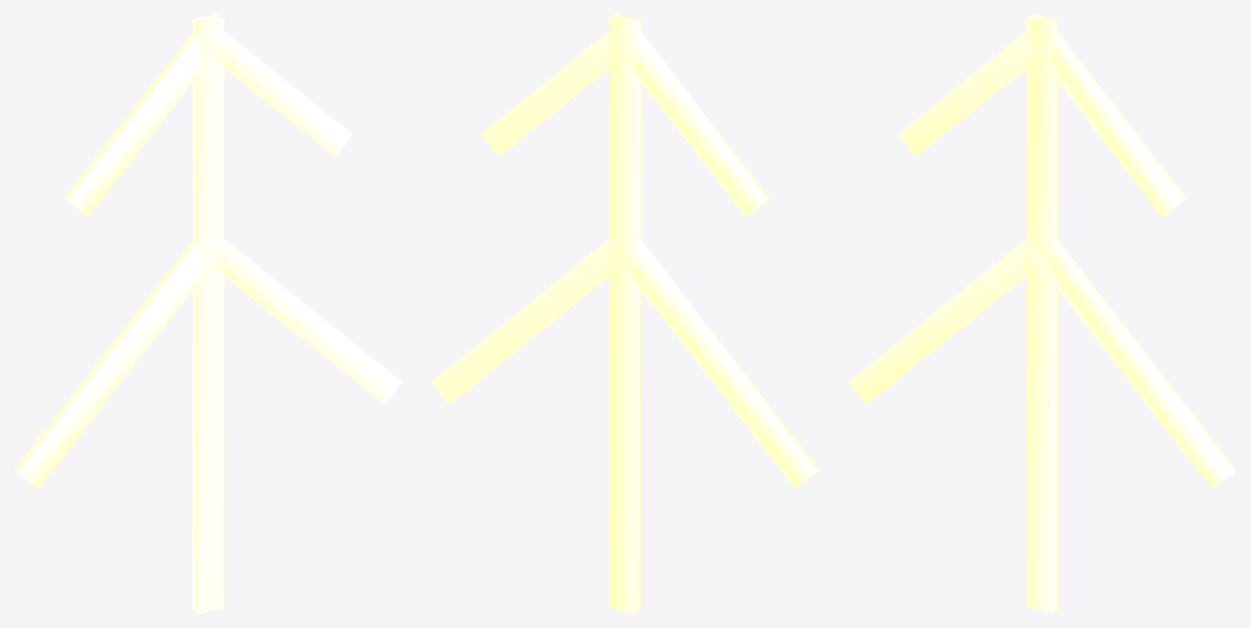
File: fate_reveal_rune.glb
The picture shows the model from 3 angles, left to right: view 1: azimuth 30°, elevation 25°; view 2: azimuth 150°, elevation 25°; view 3: azimuth 330°, elevation 25°; orthographic projection.
Parts seen in each view (by area): view 1: fate_reveal_rune; view 2: fate_reveal_rune; view 3: fate_reveal_rune.
Part boxes in pixels (bbox=[...]): fate_reveal_rune: bbox=[14, 14, 402, 613]; fate_reveal_rune: bbox=[431, 14, 819, 613]; fate_reveal_rune: bbox=[848, 14, 1236, 613].
Bounding box in the file's own units: 0.0231 × 0.034 × 0.0007.
